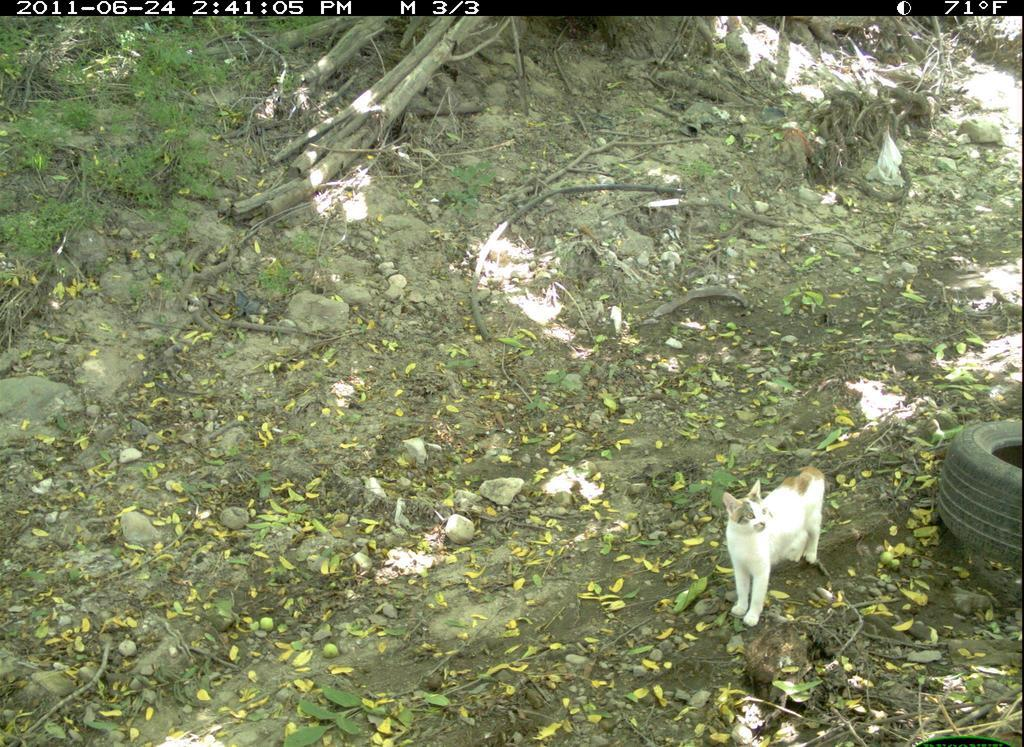cat: (705, 460, 841, 635)
